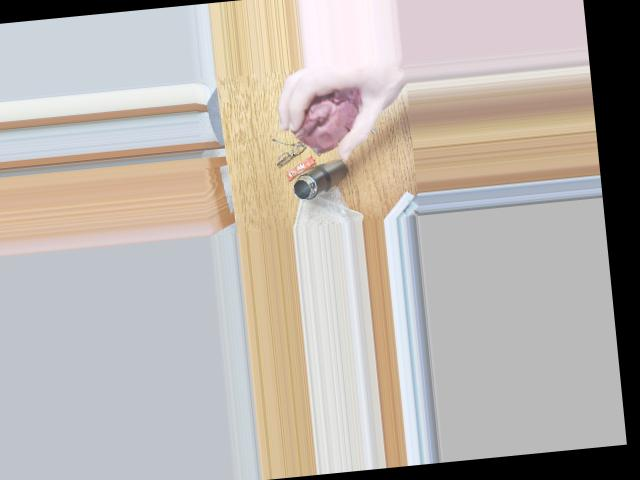onion: (297, 88, 365, 140)
